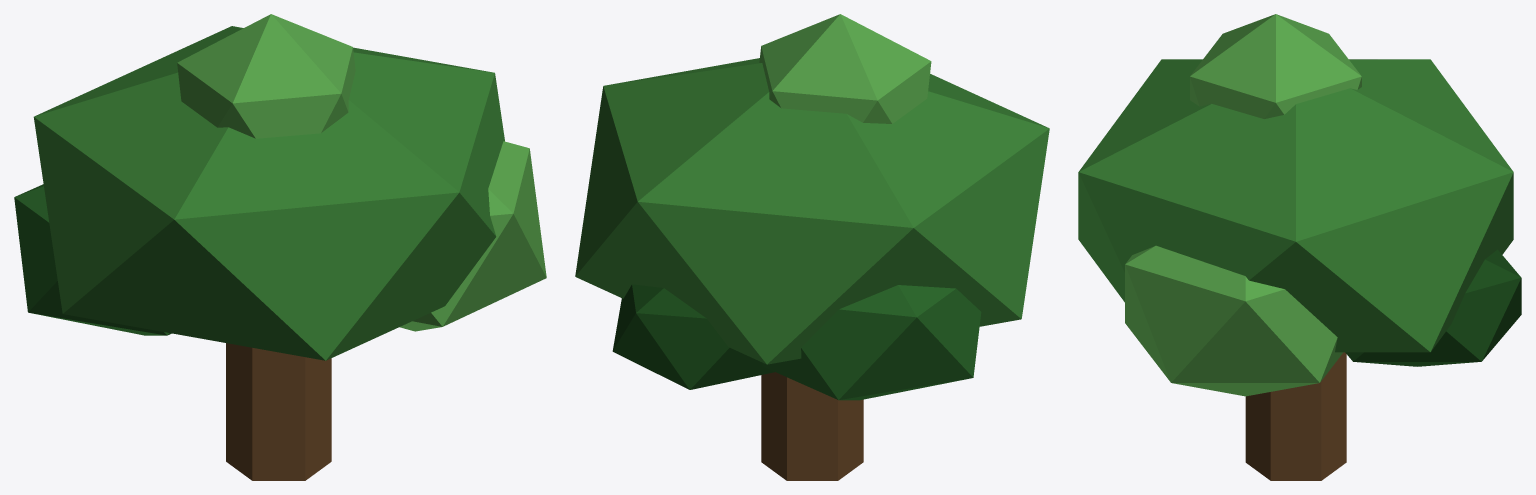
The model's file is tree_sm.glb.
3 views of the same model, side by side, from view 1: azimuth 30°, elevation 25°; view 2: azimuth 150°, elevation 25°; view 3: azimuth 270°, elevation 25° (orthographic). The views are drawn at different scales.
Visible parts, largest first — view 1: LeafMain.002, LeafTop.002, Trunk.002, LeafSide.002, LeafSide2; view 2: LeafMain.002, LeafSide2, LeafTop.002, LeafFront, Trunk.002; view 3: LeafMain.002, LeafSide.002, LeafTop.002, Trunk.002, LeafFront.
Part boxes in pixels (box(x1,y1,x2,y2)): LeafMain.002: box(33, 26, 504, 360); LeafTop.002: box(177, 14, 355, 138); Trunk.002: box(226, 343, 331, 480); LeafSide.002: box(399, 141, 546, 331); LeafSide2: box(14, 184, 171, 335); LeafMain.002: box(575, 58, 1049, 364); LeafSide2: box(762, 285, 981, 400); LeafTop.002: box(759, 14, 931, 123); LeafFront: box(612, 284, 774, 389); Trunk.002: box(761, 372, 863, 480); LeafMain.002: box(1078, 59, 1513, 352); LeafSide.002: box(1125, 245, 1343, 396); LeafTop.002: box(1190, 14, 1361, 118); Trunk.002: box(1245, 352, 1346, 480); LeafFront: box(1345, 249, 1521, 366).
Bounding box in the file's own units: 0.4813 × 0.48 × 0.4381.
